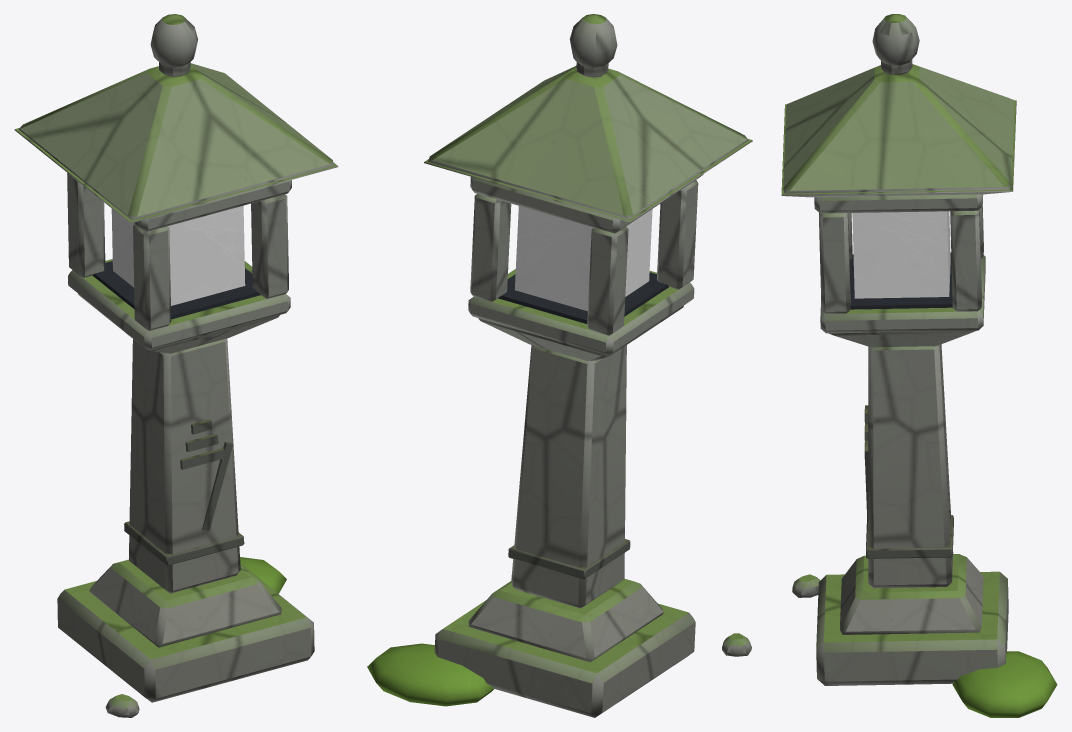
File: stone_lantern.glb
3 renders of one model, left to right at view 1: azimuth 30°, elevation 25°; view 2: azimuth 150°, elevation 25°; view 3: azimuth 270°, elevation 25°, orthographic. The views are drawn at different scales.
Parts seen in each view (by area): view 1: stone_lantern; view 2: stone_lantern; view 3: stone_lantern.
Part boxes in pixels (box(x1,y1,x2,y2)): stone_lantern: box(14, 14, 338, 717); stone_lantern: box(367, 14, 752, 717); stone_lantern: box(781, 14, 1057, 717).
Bounding box in the file's own units: 1.16 × 2.69 × 1.05.
5 materials, 5 textured.
